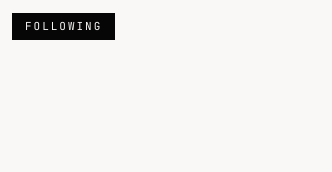
FollowButton › clicking Following calls unfollow API and shows Follow
The width and height of the screenshot is (332, 172).
Click the button.
click(64, 26)  # box [12, 13, 115, 40]
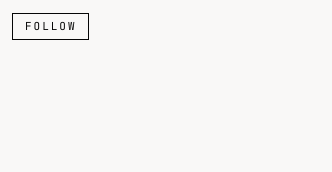
Expected: the button reads "FOLLOW", [12, 13, 90, 40]
